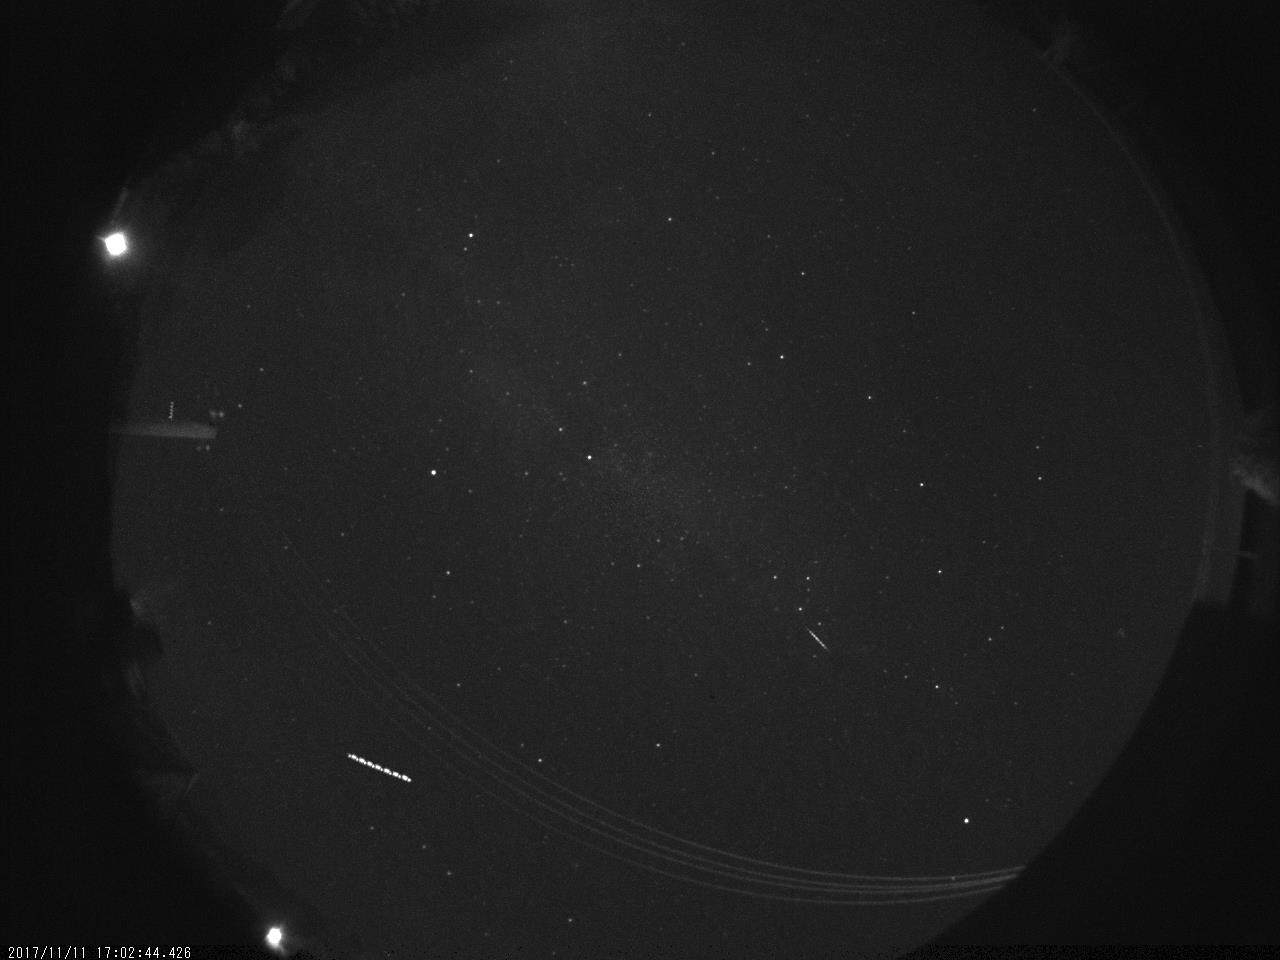meteor: (802, 620, 836, 664)
satelite: (339, 745, 420, 791)
